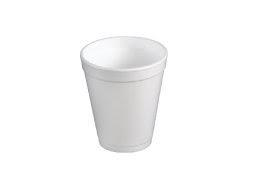Plastic cup: (68, 25, 177, 165)
